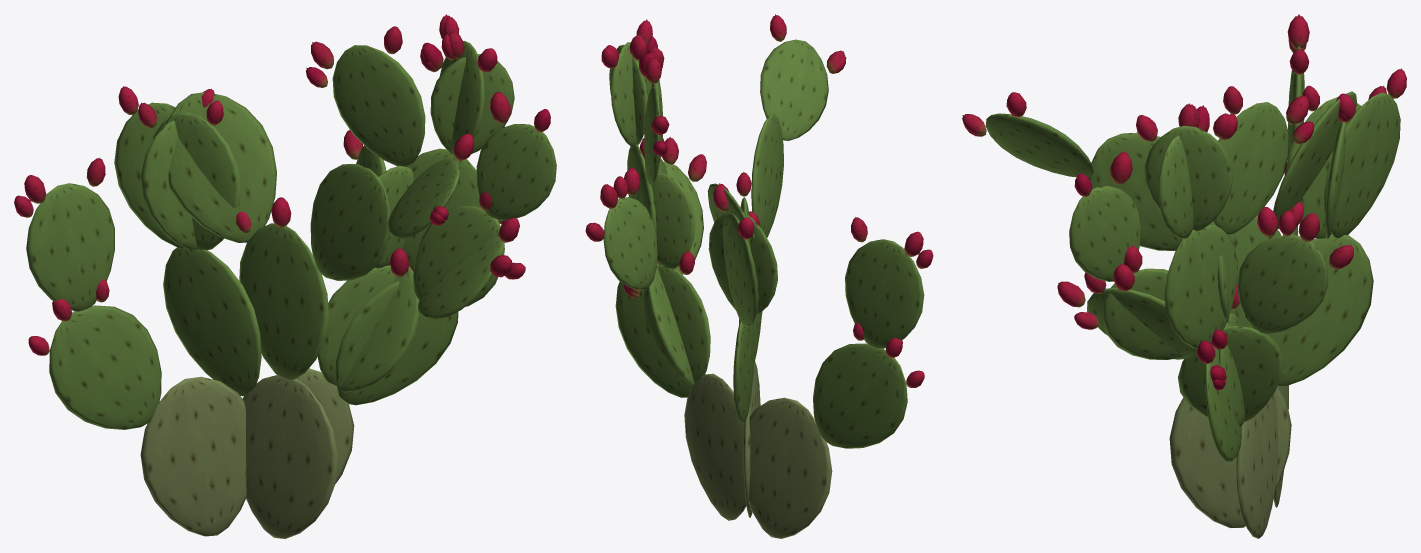
Rendered from forage-opuntia.glb.
The picture shows the model from 3 angles, left to right: view 1: azimuth 30°, elevation 25°; view 2: azimuth 150°, elevation 25°; view 3: azimuth 270°, elevation 25°; orthographic projection. The views are drawn at different scales.
Parts seen in each view (by area): view 1: body, fruit, bodyFar; view 2: body, fruit, bodyFar; view 3: body, fruit, bodyFar.
Boxes of the visible parts, x1,y1,x2,y2 form: body: (26, 41, 556, 538); fruit: (14, 15, 550, 355); bodyFar: (40, 53, 547, 531); body: (603, 39, 924, 538); fruit: (585, 15, 933, 387); bodyFar: (610, 43, 911, 532); body: (985, 46, 1400, 538); fruit: (962, 16, 1406, 390); bodyFar: (989, 92, 1394, 532).
Bounding box in the file's own units: 0.9139 × 0.9887 × 0.7957.
Materials: 1 (1 with a texture image).
